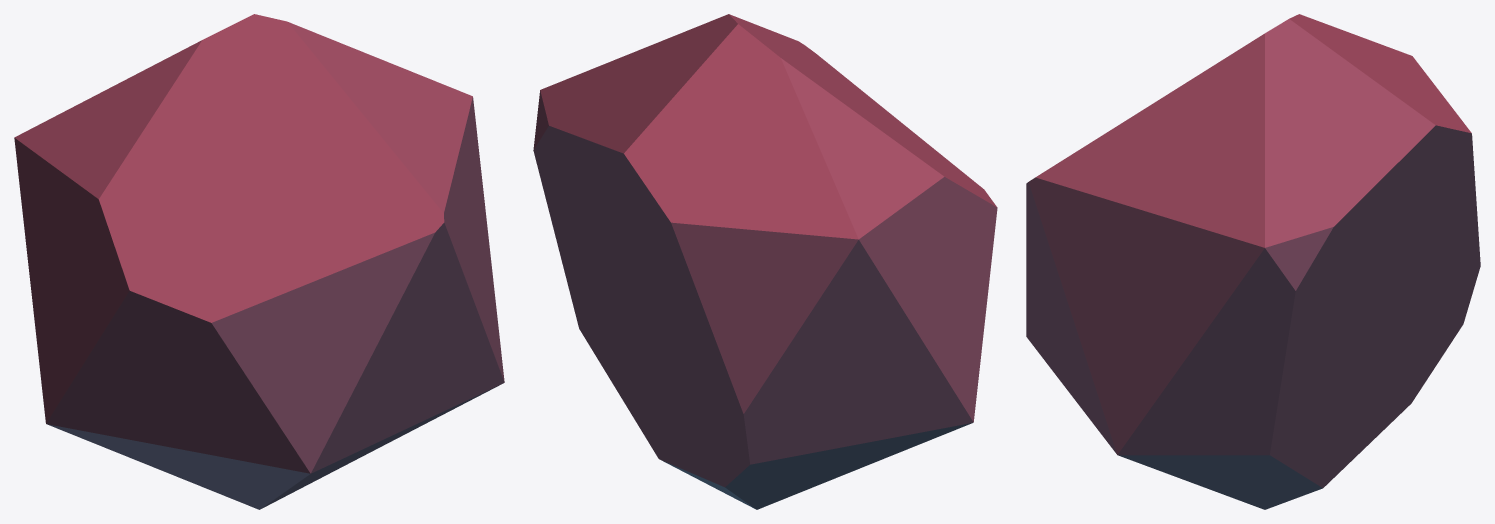
Rendered from geology-crystals-gemstone_v6.glb.
3 views of the same model, side by side, from view 1: azimuth 30°, elevation 25°; view 2: azimuth 150°, elevation 25°; view 3: azimuth 270°, elevation 25° (orthographic).
Visible parts, largest first — view 1: gemstone_v6; view 2: gemstone_v6; view 3: gemstone_v6.
Boxes of the visible parts, x1,y1,x2,y2 form: gemstone_v6: (14, 14, 504, 509); gemstone_v6: (533, 14, 997, 509); gemstone_v6: (1026, 14, 1480, 509).
Bounding box in the file's own units: 18.93 × 20.58 × 17.14.
